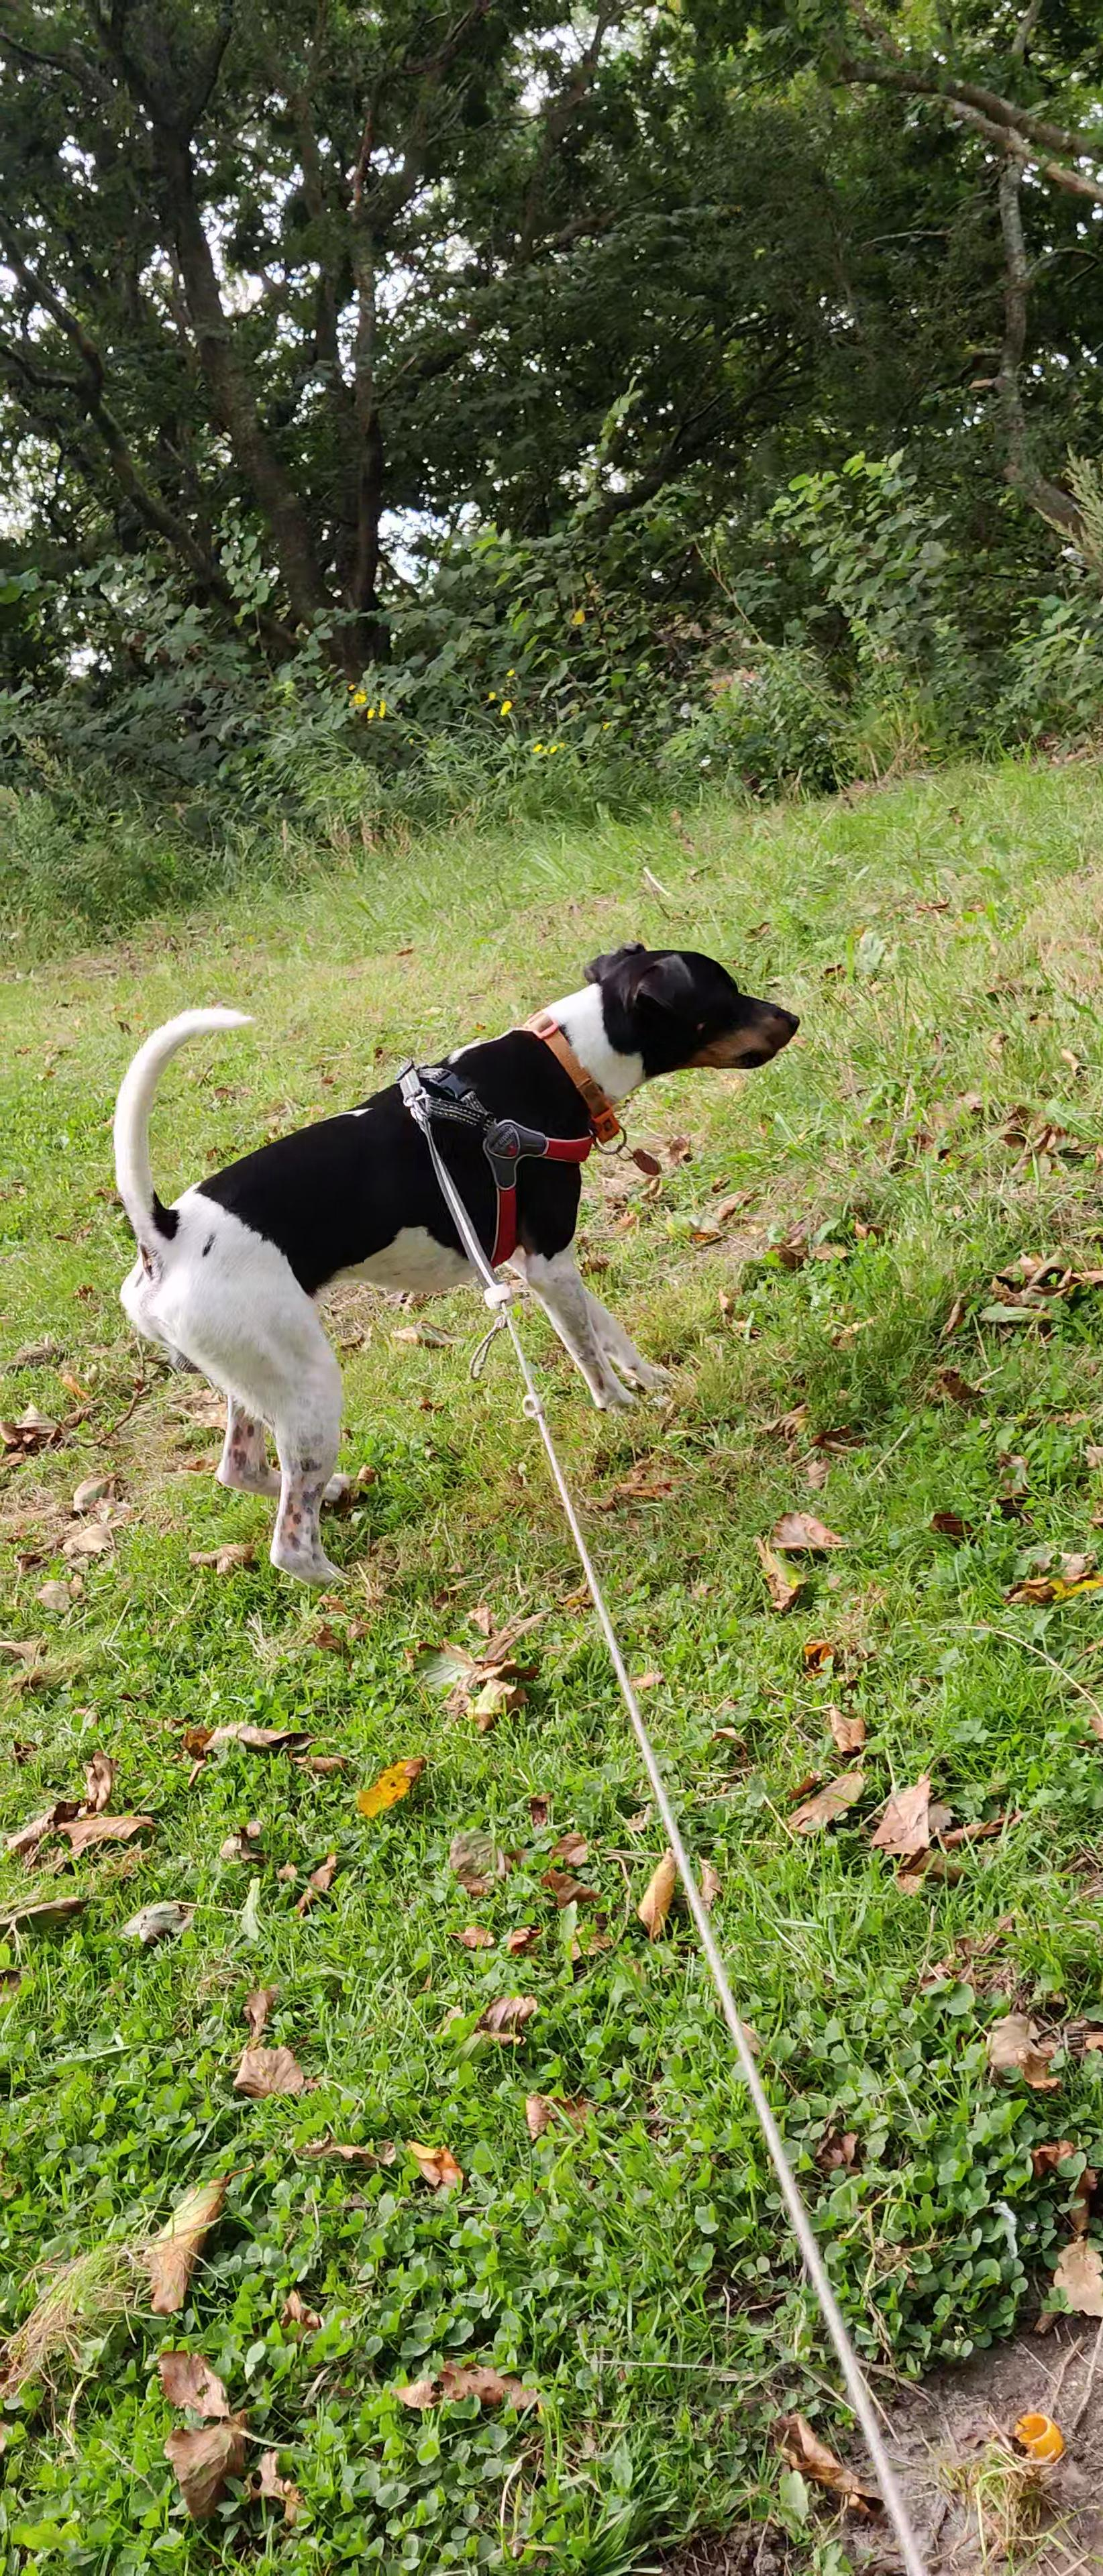Dog: (95, 904, 810, 1603)
